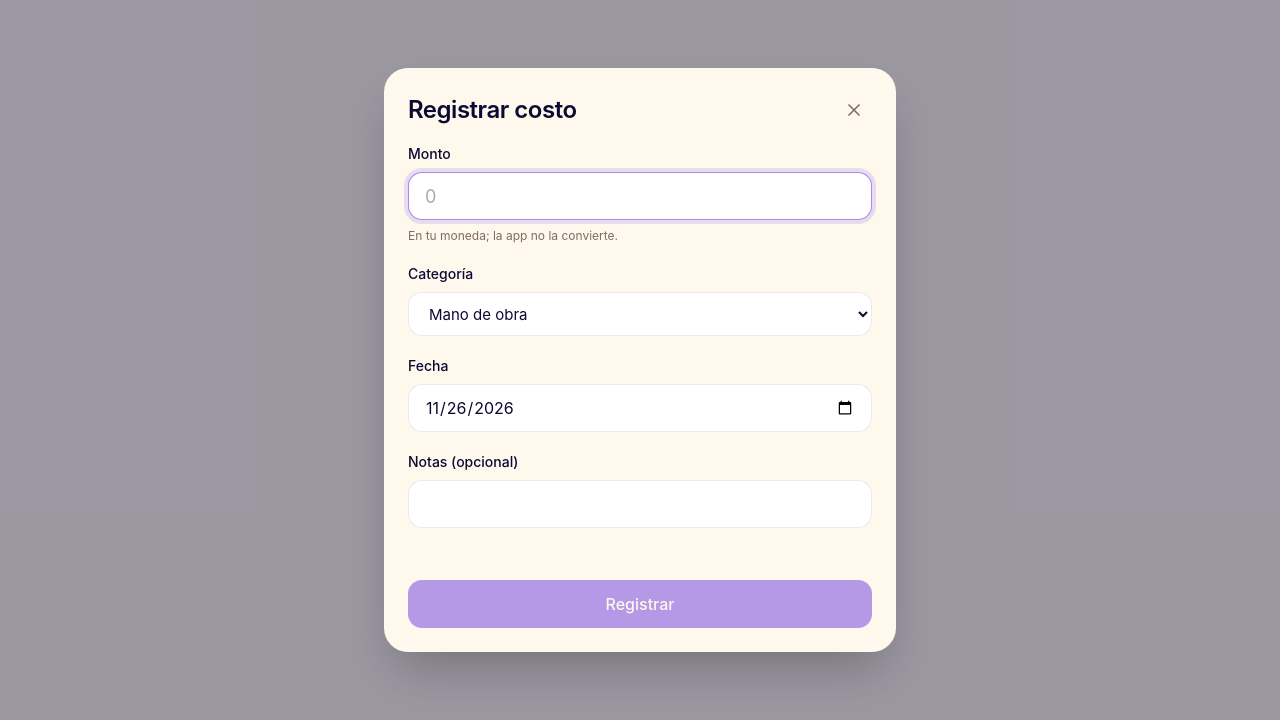
CostSheet › muestra el error del servidor y no cierra
The image size is (1280, 720).
Type "10" into the field labelled "Monto". click: (640, 196)
box: x1=408 y1=172 x2=872 y2=220
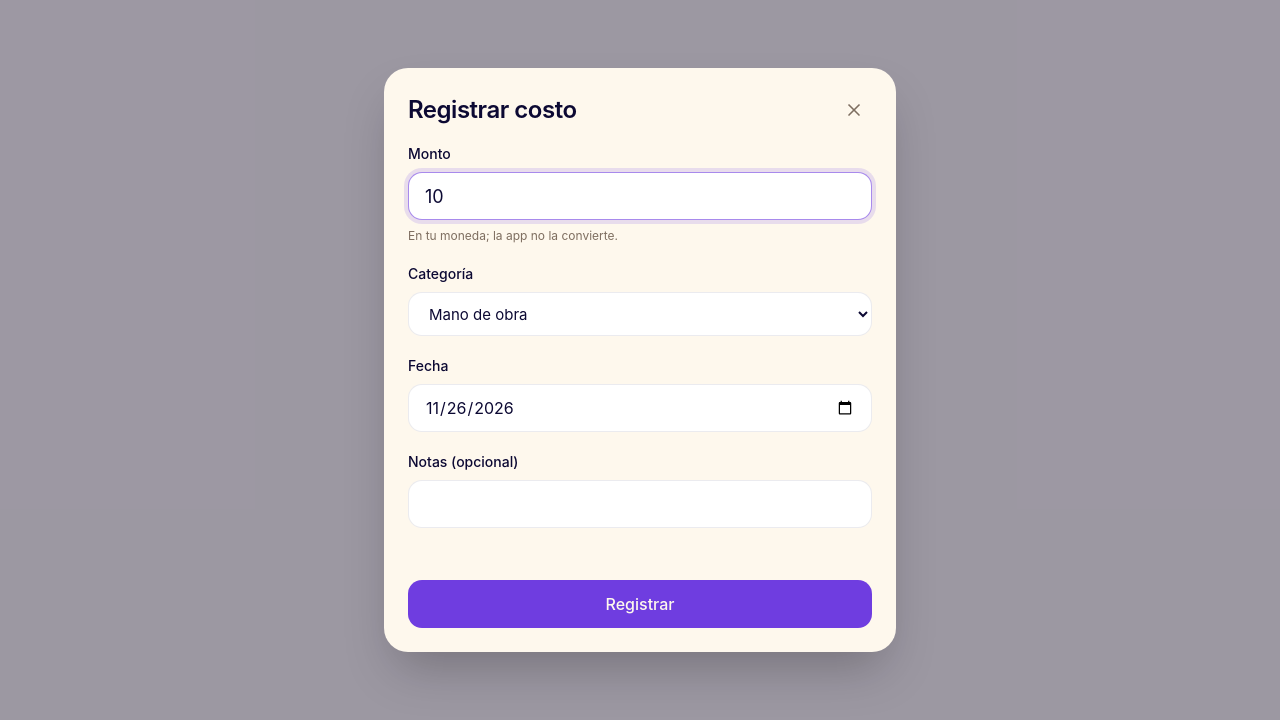
Click the button "Registrar". click: (640, 604)
box: x1=408 y1=580 x2=872 y2=628
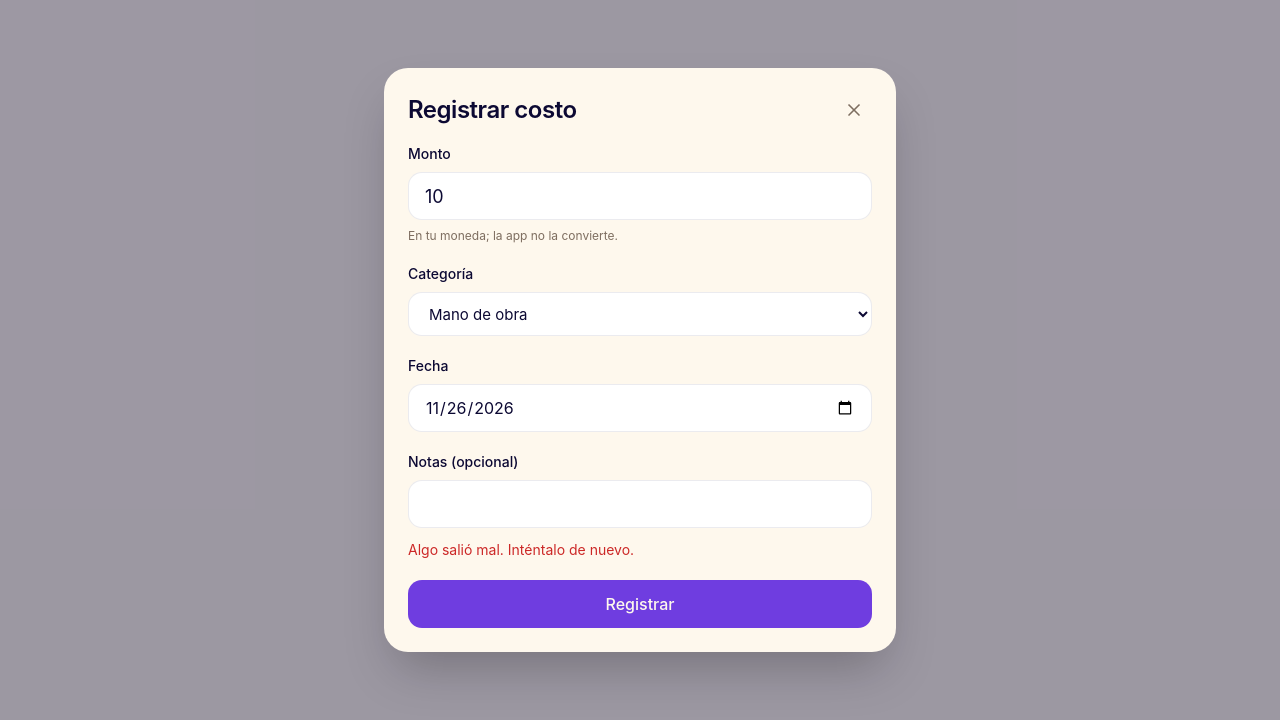
Now the text "Algo salió mal. Inténtalo de nuevo." is shown, box x1=408 y1=541 x2=634 y2=558
